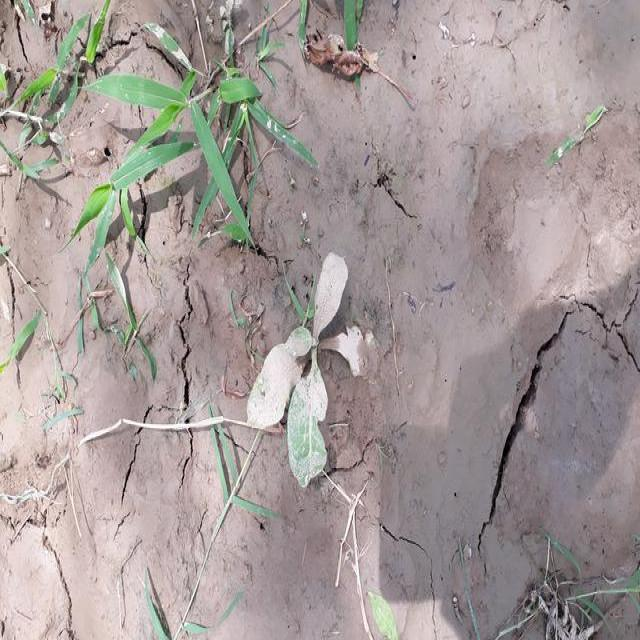crop: (244, 240, 374, 493)
